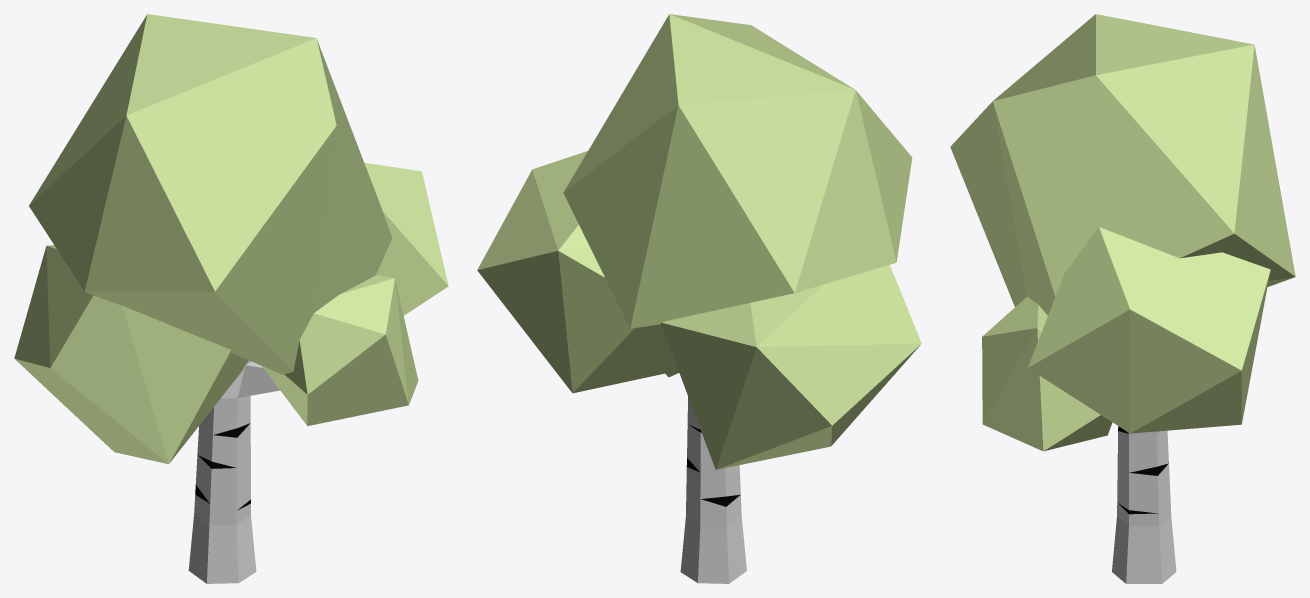
File: tree3.fbx
3 renders of one model, left to right at view 1: azimuth 30°, elevation 25°; view 2: azimuth 150°, elevation 25°; view 3: azimuth 270°, elevation 25°, orthographic. The views are drawn at different scales.
Visible parts, largest first — view 1: crown, trunk; view 2: crown, trunk; view 3: crown, trunk.
Boxes of the visible parts, bbox=[...] form: crown: bbox=[14, 14, 448, 464]; trunk: bbox=[188, 360, 279, 583]; crown: bbox=[477, 14, 921, 469]; trunk: bbox=[680, 396, 746, 583]; crown: bbox=[950, 14, 1295, 451]; trunk: bbox=[1112, 426, 1176, 583].
Bounding box in the file's own units: 4.54 × 6.02 × 3.55.
